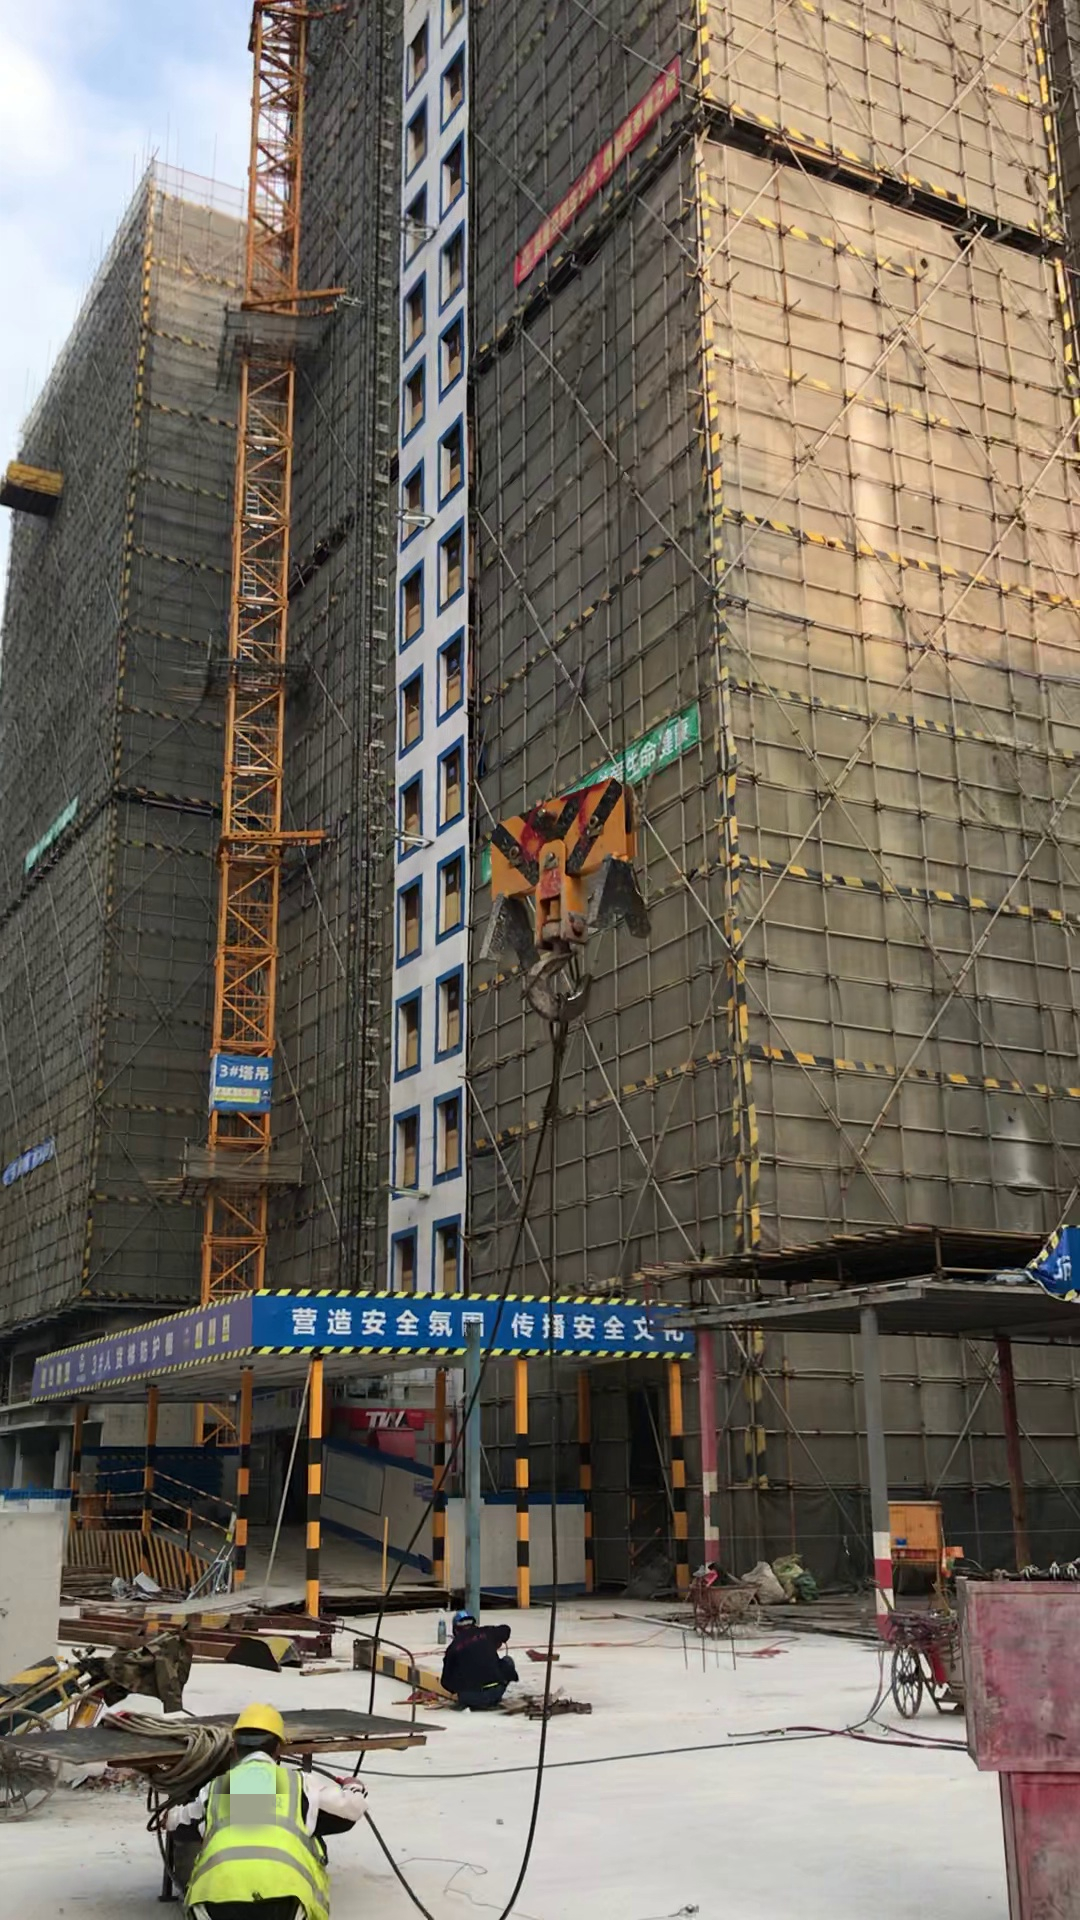ebox: (889, 1492, 955, 1567)
handcart: (667, 1577, 768, 1638)
helmet: (228, 1699, 289, 1739), (448, 1607, 481, 1631)
hook: (476, 759, 655, 1013)
person: (139, 1692, 402, 1920), (436, 1604, 528, 1714)
slogan: (241, 1295, 684, 1359), (29, 1299, 247, 1400), (601, 715, 704, 786), (20, 799, 76, 876), (1, 1141, 60, 1191)
vest: (203, 1776, 328, 1906)
